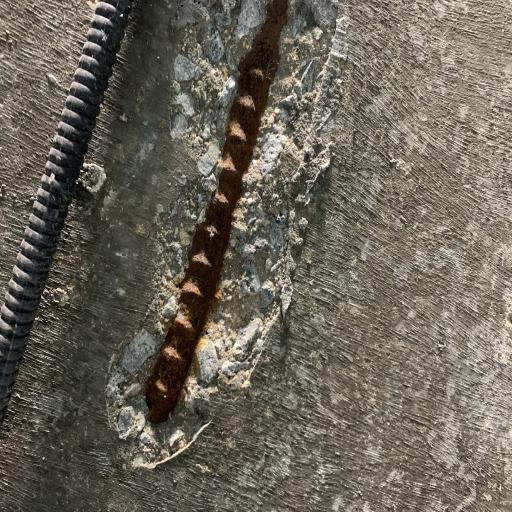exposed_rebar: (146, 0, 287, 423), (0, 0, 131, 422)
spalling: (106, 0, 344, 468)
